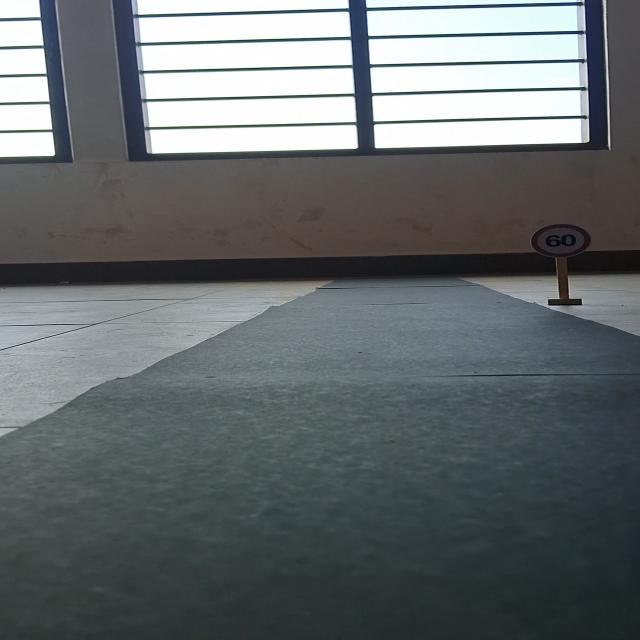Speed60: (533, 225, 591, 257)
